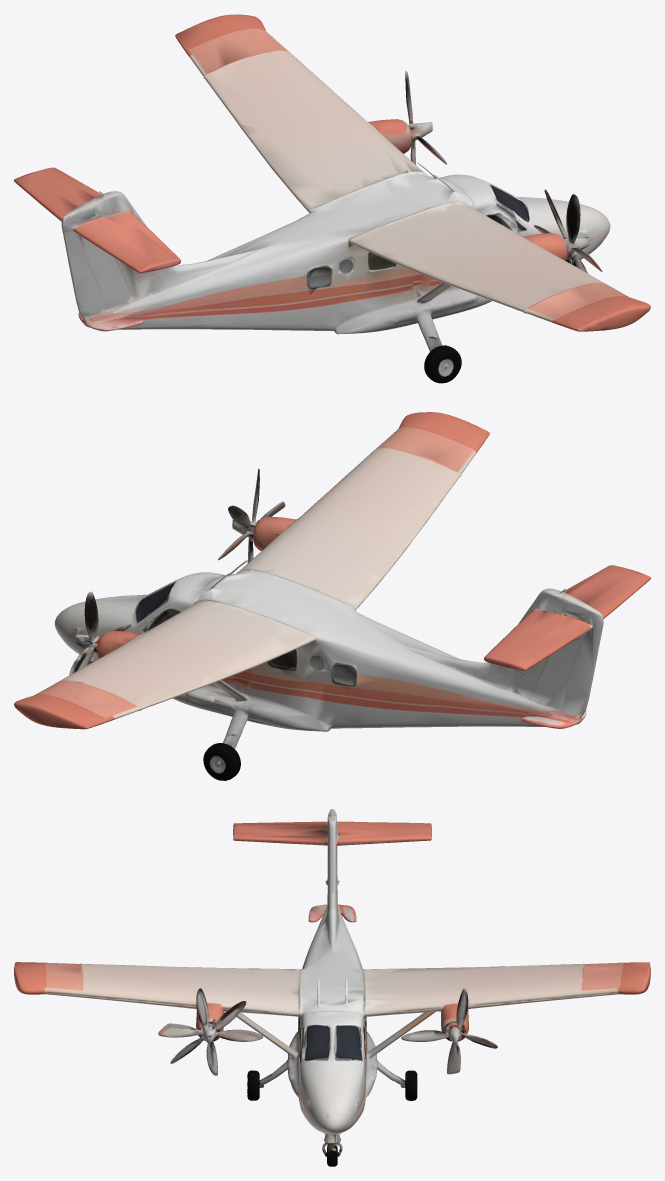
File: coastal_aircraft.glb
3 views of the same model, one above another, from view 1: azimuth 30°, elevation 25°; view 2: azimuth 150°, elevation 25°; view 3: azimuth 270°, elevation 25° (orthographic). The views are drawn at different scales.
Visible parts, largest first — view 1: node_0; view 2: node_0; view 3: node_0.
Part boxes in pixels (x1,y1,x2,y2): node_0: (14, 14, 650, 383); node_0: (14, 412, 650, 780); node_0: (14, 809, 650, 1166).
Bounding box in the file's own units: 0.8938 × 0.3522 × 1.15.
1 material, 1 textured.
